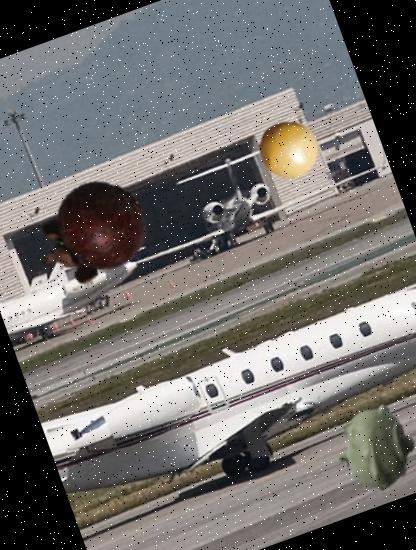Grapefruit: (250, 111, 327, 188)
Kohlrabi: (320, 391, 416, 504)
Mangostan: (17, 161, 164, 308)
